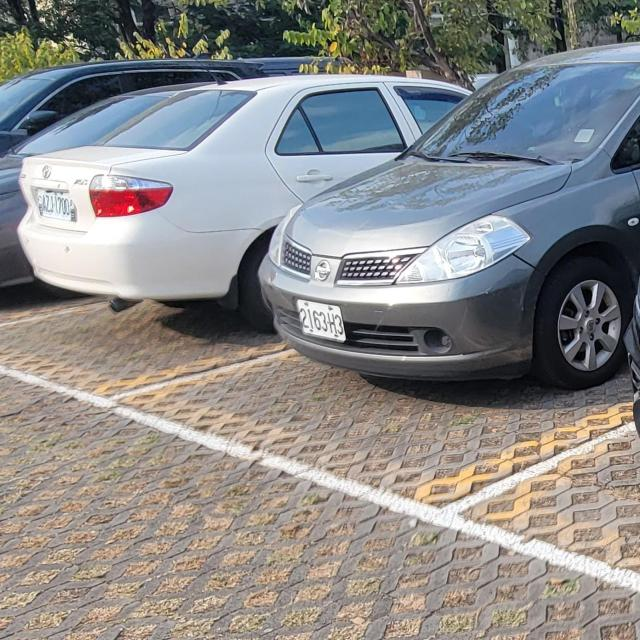W: (297, 294, 345, 346)
